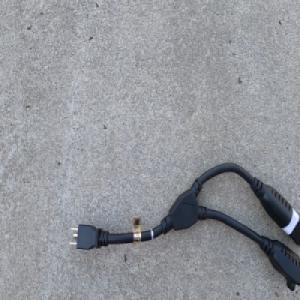Wire: (67, 161, 300, 292)
